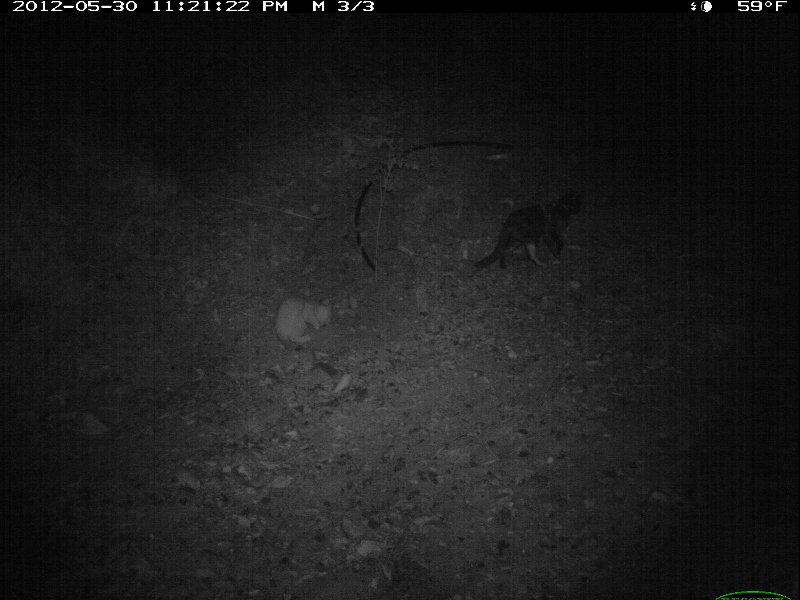cat: (478, 187, 587, 271), (271, 292, 337, 349)
